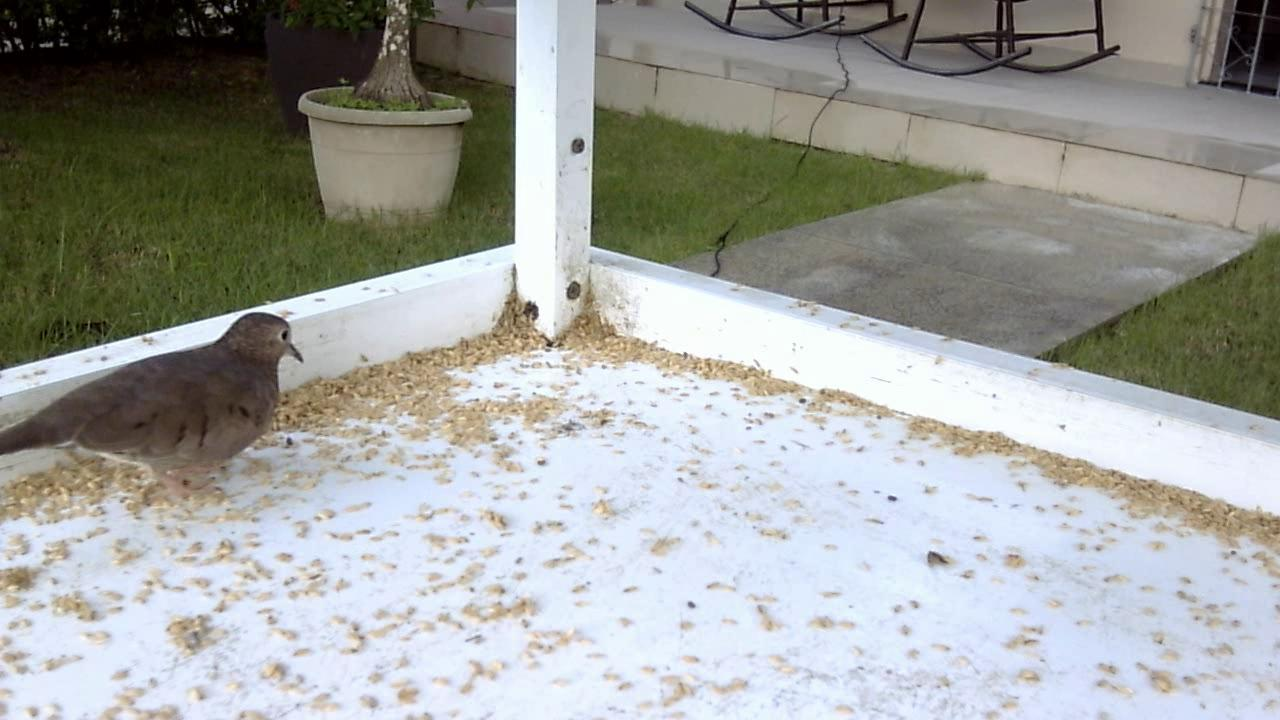rolinha: (4, 307, 312, 507)
